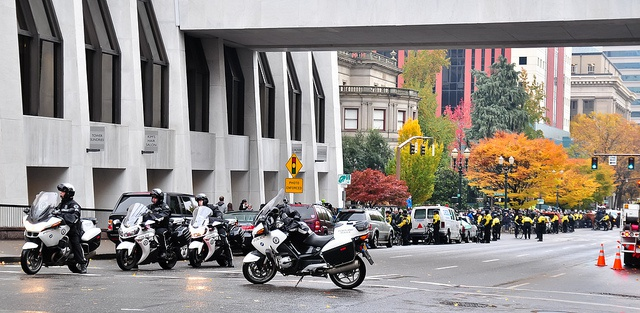non-vehicle: (241, 188, 374, 289), (18, 190, 104, 276), (116, 202, 191, 270), (182, 205, 228, 268), (225, 217, 246, 250)
